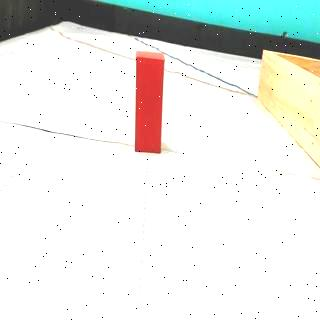redbox: (134, 50, 164, 154)
